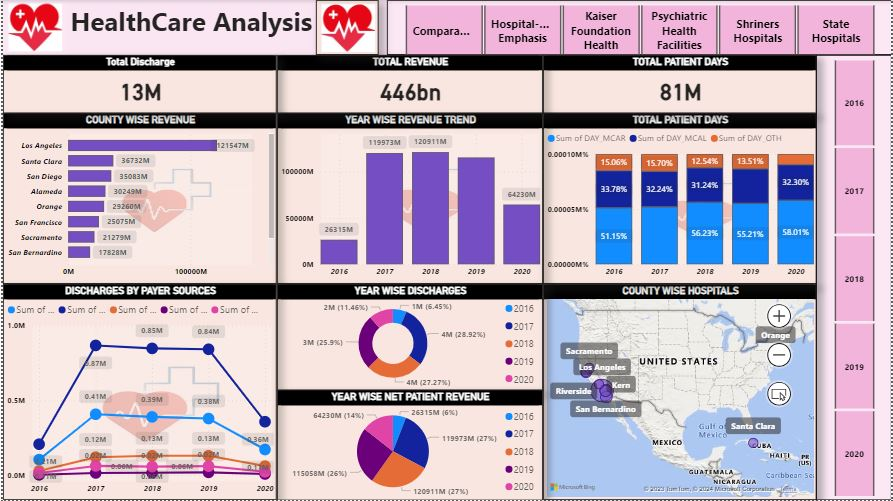

This screenshot's page, from the dashboard's own definition file:
{"tool":"tableau","page":{"name":"DASHBOARD","canvas":[1000,1000],"units":"permille","ordinal":0},"visuals":[{"type":"title","box":[6.9,13.5,986.1,65.9]},{"type":"image","param":"Image/OIP.jpg","box":[270.1,18.6,33.8,52.4]},{"type":"image","param":"Image/OIP.jpg","box":[697,18.6,37.2,54.1]},{"type":"image","box":[6.9,79.4,986.1,907.1]},{"type":"filter","title":"NET PATIENT REVENUE","param":"[federated.0hf6pbz0bde5vd13d0ws40o3xaft].[none:YEAR:nk]","box":[10.4,94.6,106.5,263.5]},{"type":"worksheet","title":"YEAR WISE DISCHARGE","mark":"Automatic","rows":["YEAR"],"cols":["DIS_TOT"],"box":[120.4,94.6,253.7,312.5]},{"type":"worksheet","title":"DISCHARGE BY PAYER SOURCE","mark":"Bar","cols":["YEAR"],"box":[374,94.6,278.8,312.5]},{"type":"worksheet","title":"REVENUE TREND","mark":"Line","rows":["NET_TOT"],"cols":["YEAR","QUARTER"],"box":[653.7,94.6,333.3,310.8]},{"type":"worksheet","title":"TOTAL DISCHARGES","mark":"Automatic","box":[10.4,359.8,106.5,194.3]},{"type":"worksheet","title":"NET PATIENT REVENUE","mark":"Pie","box":[120.4,407.1,253.7,261.8]},{"type":"worksheet","title":"COUNTY WISE REVENUE","mark":"Automatic","rows":["NET_TOT"],"cols":["COUNTY_NAME"],"box":[374,407.1,279.7,263.5]},{"type":"worksheet","title":"COUNTY WISE HOSPITAL","mark":"Circle","box":[653.7,407.1,331.6,584.5]},{"type":"worksheet","title":"TOTAL HOSPITALS","mark":"Automatic","box":[8.7,557.4,105.6,206.1]},{"type":"worksheet","title":"PATIENT DAYS","mark":"Automatic","cols":["YEAR"],"box":[120.1,672.1,533.5,319.6]},{"type":"worksheet","title":"TOTAL PATIENT DAYS","mark":"Automatic","box":[8.7,766.9,109.1,211.2]}]}

Visuals, with their boxes on the dashboard's canvas, which has no fixed pixel size, in thousandths of its width and height (x1, y1, x2, y2). These are canvas units, not pixel positions in the 893x501 screenshot, which may show the page scaled, cropped or inside an application window:
title: 7, 14, 993, 79
image: 270, 19, 304, 71
image: 697, 19, 734, 73
image: 7, 79, 993, 986
"NET PATIENT REVENUE" filter: 10, 95, 117, 358
"YEAR WISE DISCHARGE" worksheet: 120, 95, 374, 407
"DISCHARGE BY PAYER SOURCE" worksheet (Bar marks): 374, 95, 653, 407
"REVENUE TREND" worksheet (Line marks): 654, 95, 987, 405
"TOTAL DISCHARGES" worksheet: 10, 360, 117, 554
"NET PATIENT REVENUE" worksheet (Pie marks): 120, 407, 374, 669
"COUNTY WISE REVENUE" worksheet: 374, 407, 654, 671
"COUNTY WISE HOSPITAL" worksheet (Circle marks): 654, 407, 985, 992
"TOTAL HOSPITALS" worksheet: 9, 557, 114, 764
"PATIENT DAYS" worksheet: 120, 672, 654, 992
"TOTAL PATIENT DAYS" worksheet: 9, 767, 118, 978
